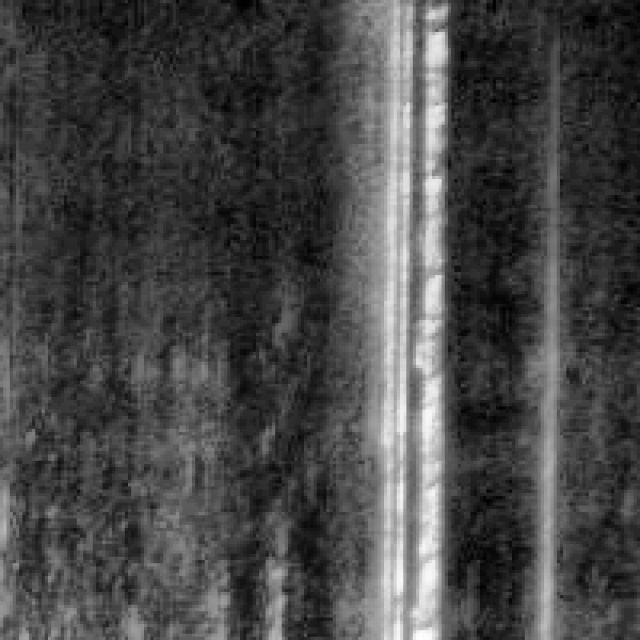Inclusion: (368, 0, 451, 637), (524, 182, 564, 634)
